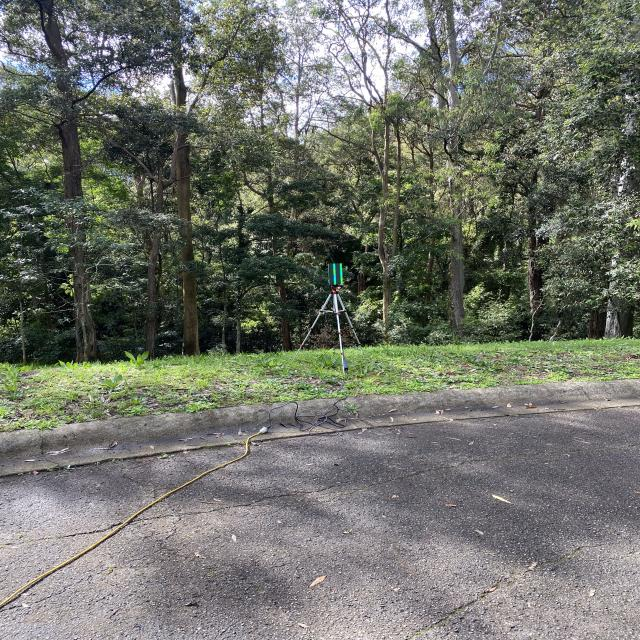matrix: (326, 263, 346, 285)
